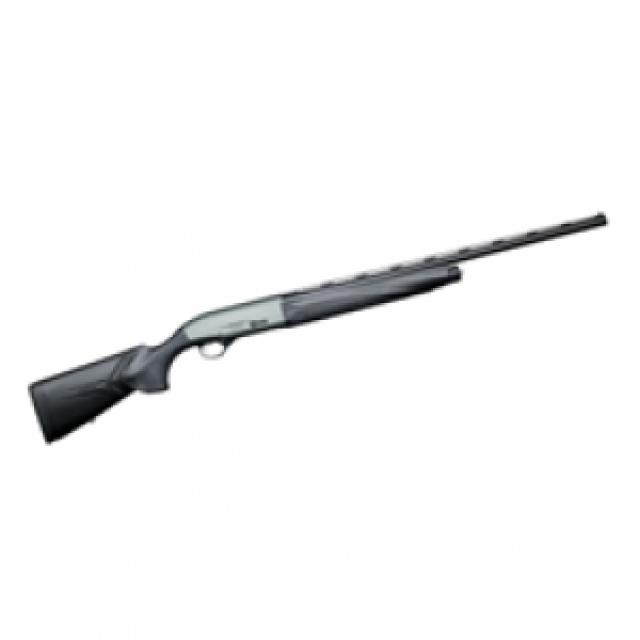rifle: (22, 205, 617, 456)
